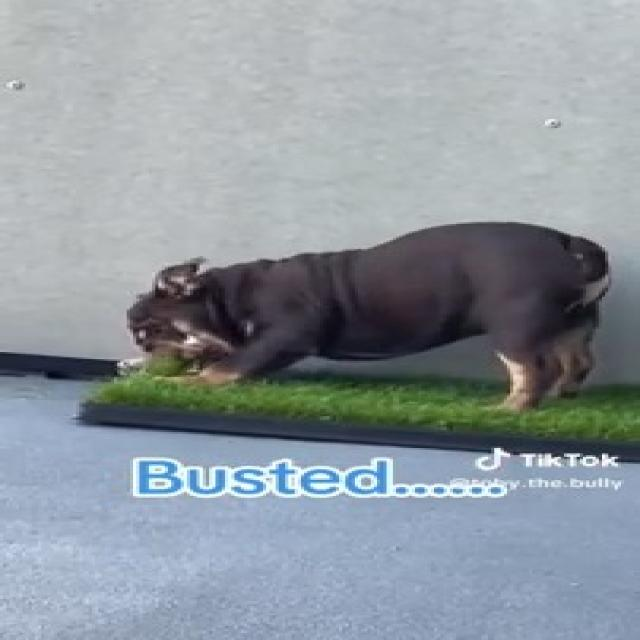dogs: (98, 210, 607, 416)
